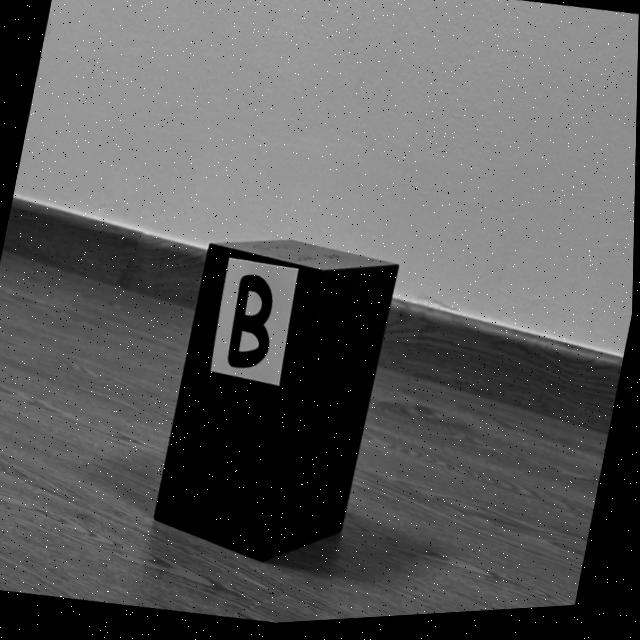B: (229, 278, 273, 371)
